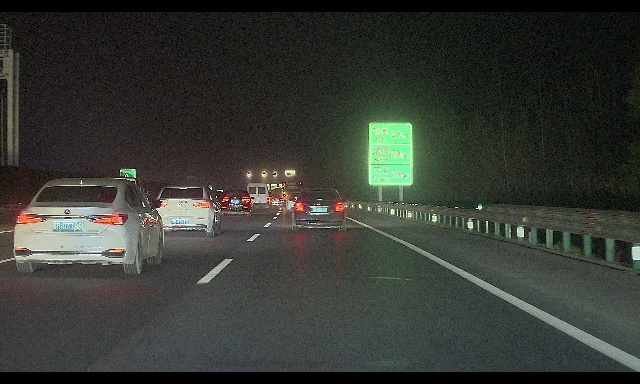car: (14, 177, 163, 274), (155, 186, 222, 236), (289, 187, 349, 231), (105, 177, 152, 225), (220, 189, 255, 217), (246, 183, 269, 210), (285, 192, 311, 213), (269, 188, 293, 207)
truck: (282, 179, 304, 207)
